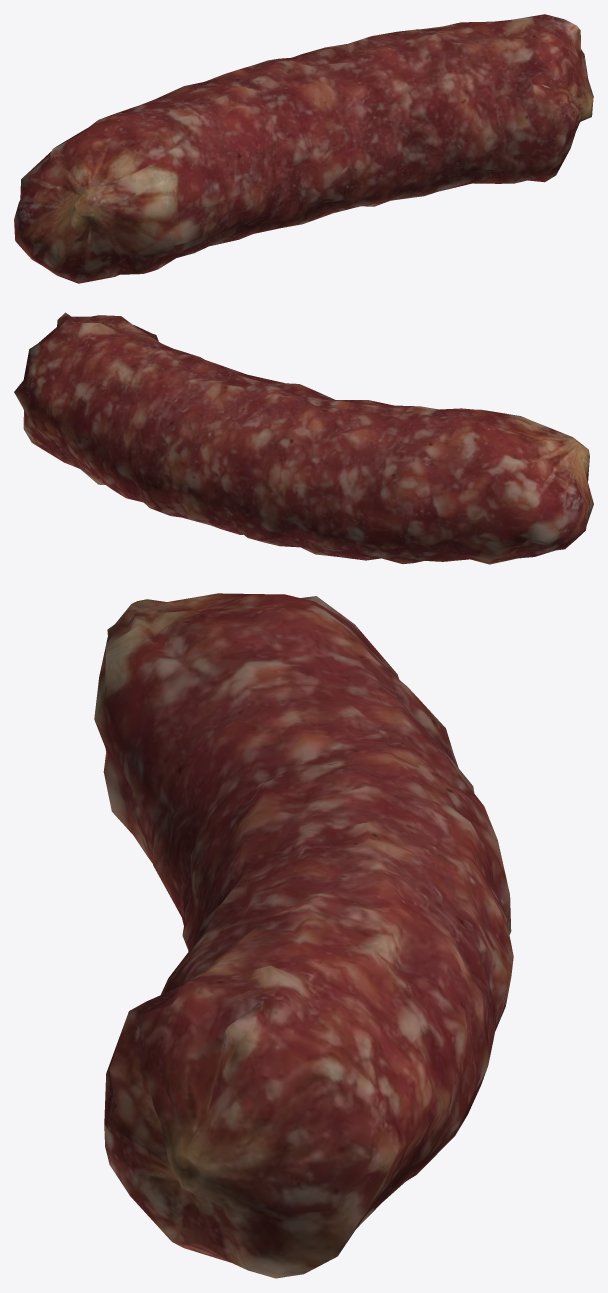
File: sausage_e.glb
3 renders of one model, top to bottom at view 1: azimuth 30°, elevation 25°; view 2: azimuth 150°, elevation 25°; view 3: azimuth 270°, elevation 25°, orthographic. The views are drawn at different scales.
Visible parts, largest first — view 1: wewjbdtaa_LOD0_TIER2_000; view 2: wewjbdtaa_LOD0_TIER2_000; view 3: wewjbdtaa_LOD0_TIER2_000.
Part boxes in pixels (bbox=[...]): wewjbdtaa_LOD0_TIER2_000: bbox=[14, 14, 593, 283]; wewjbdtaa_LOD0_TIER2_000: bbox=[14, 312, 593, 564]; wewjbdtaa_LOD0_TIER2_000: bbox=[94, 593, 513, 1278].
Bounding box in the file's own units: 0.1225 × 0.0325 × 0.041.
Materials: 1 (1 with a texture image).
